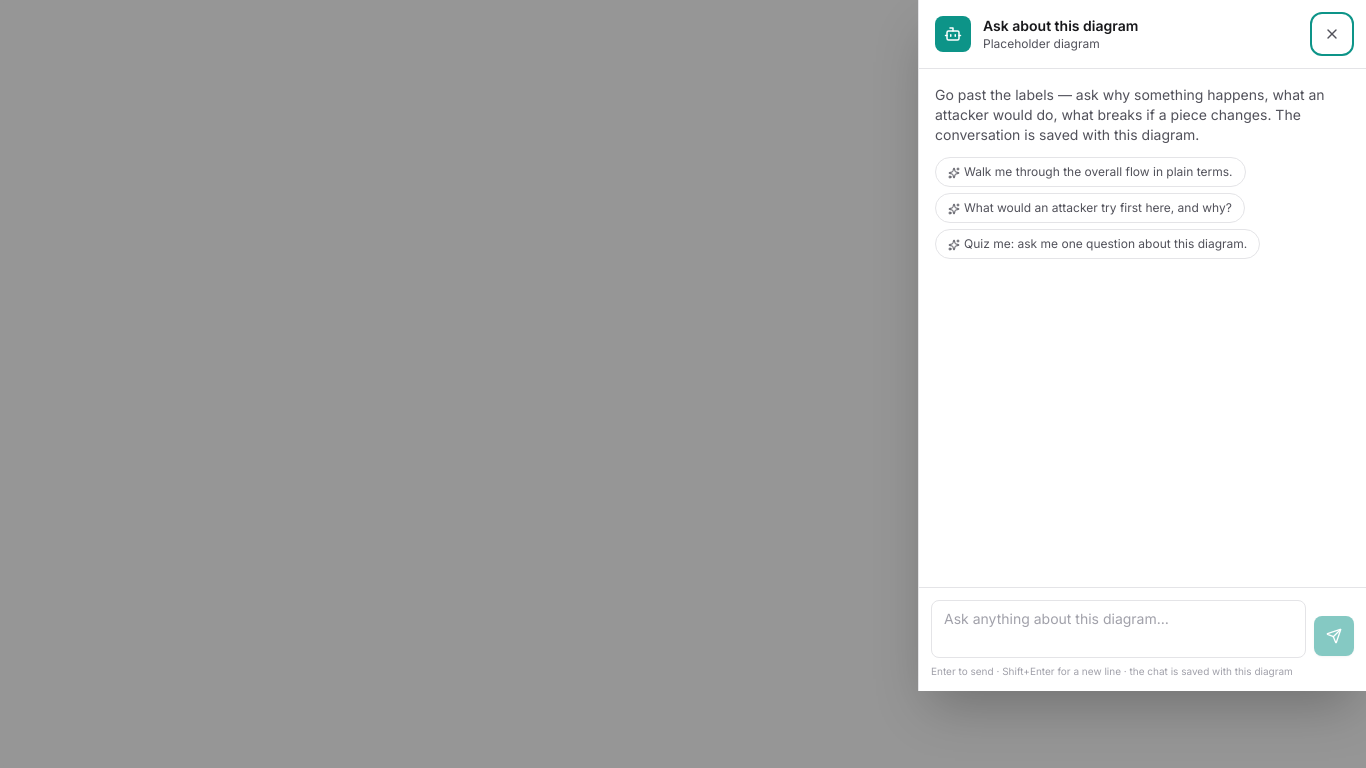
it: ChatDrawer › sends a question and renders the saved reply
This screenshot has width=1366, height=768.
Type "Why three steps?" into the text box named "Message". click: {"x": 1118, "y": 629}
box: [931,600,1306,658]
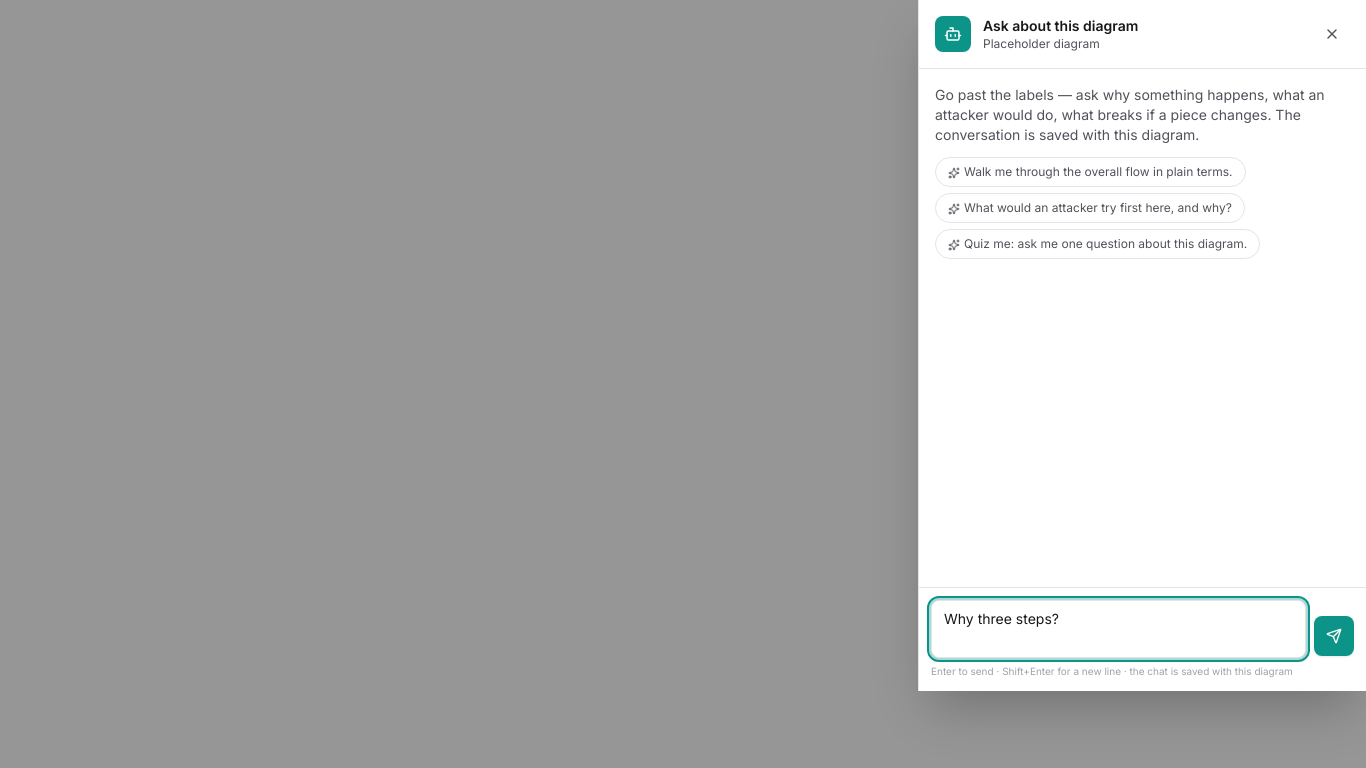
Click the button named "Send". click: {"x": 1334, "y": 636}
box: [1314,616,1354,656]
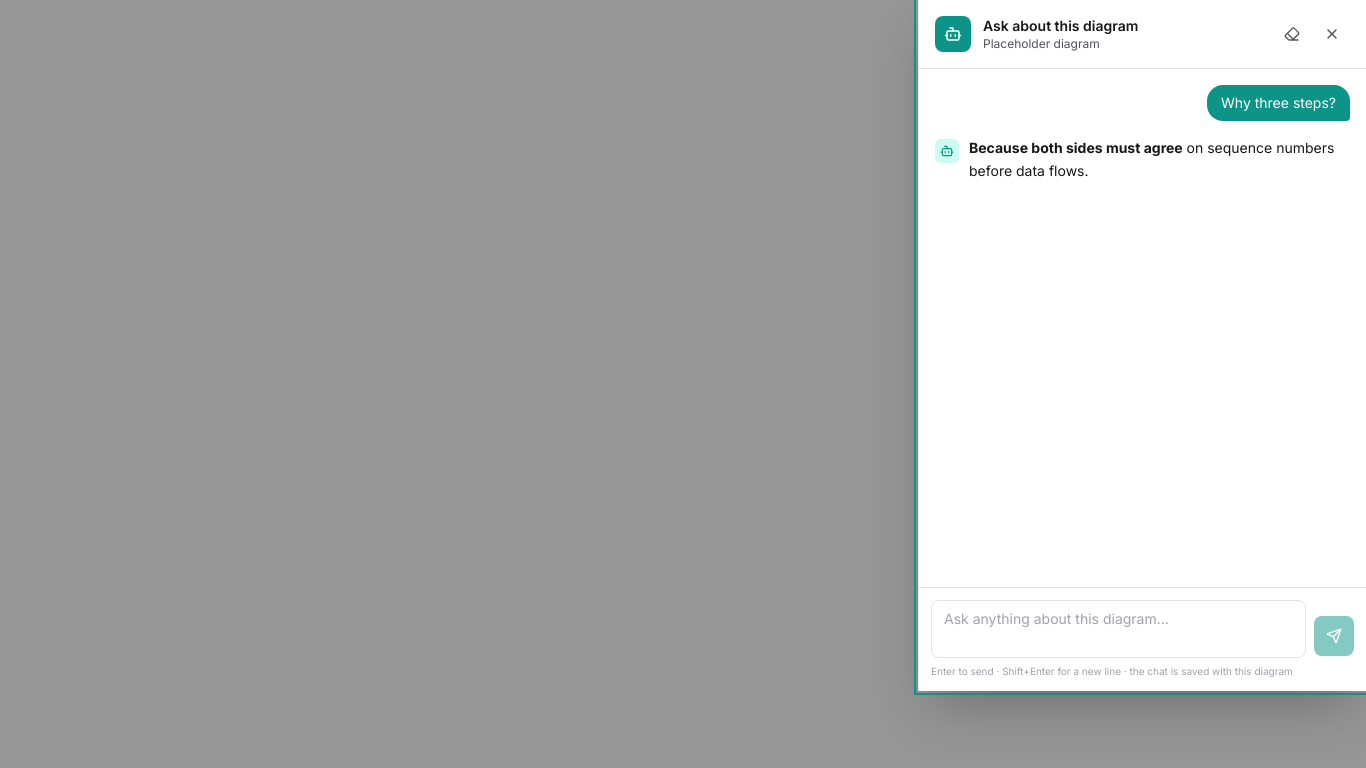
Now the text "Because both sides must agree" is shown, box [969,139,1183,156]
